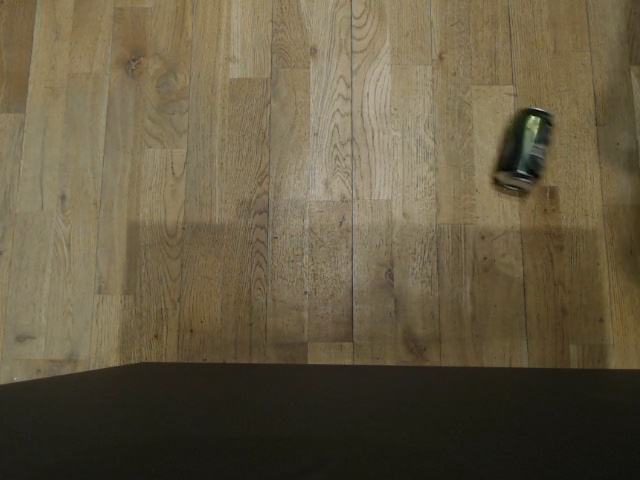beer: (492, 103, 554, 194)
